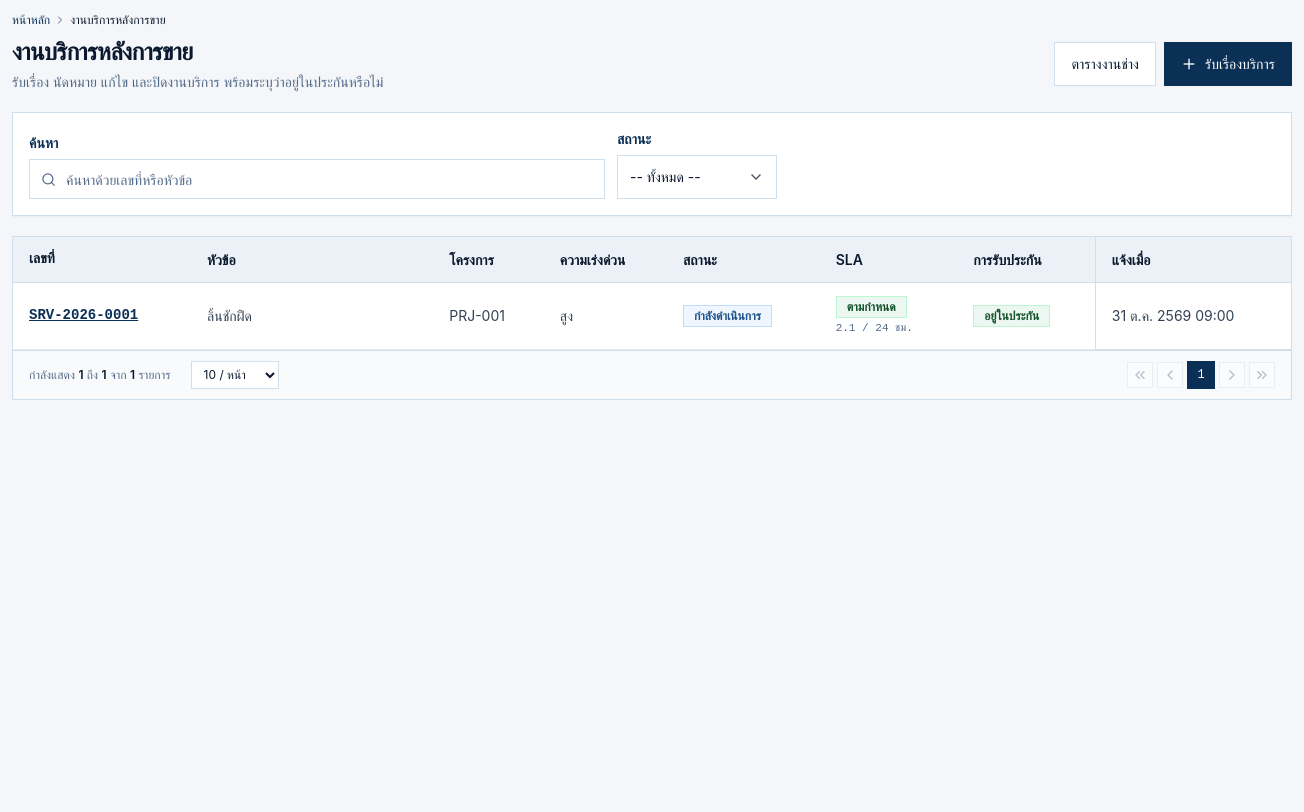
ServiceRequestList and TechnicianSchedulePanel › renders service requests with SLA column and allows switching between requests and schedules view
Expected: the link "SRV-2026-0001" is shown, [29, 307, 138, 323]
Expected: the text "ลิ้นชักฝืด" is shown, [191, 282, 433, 349]
// Switch to schedules view
Click the button "ตารางงานช่าง". click: (1105, 64)
box: [1054, 42, 1156, 86]
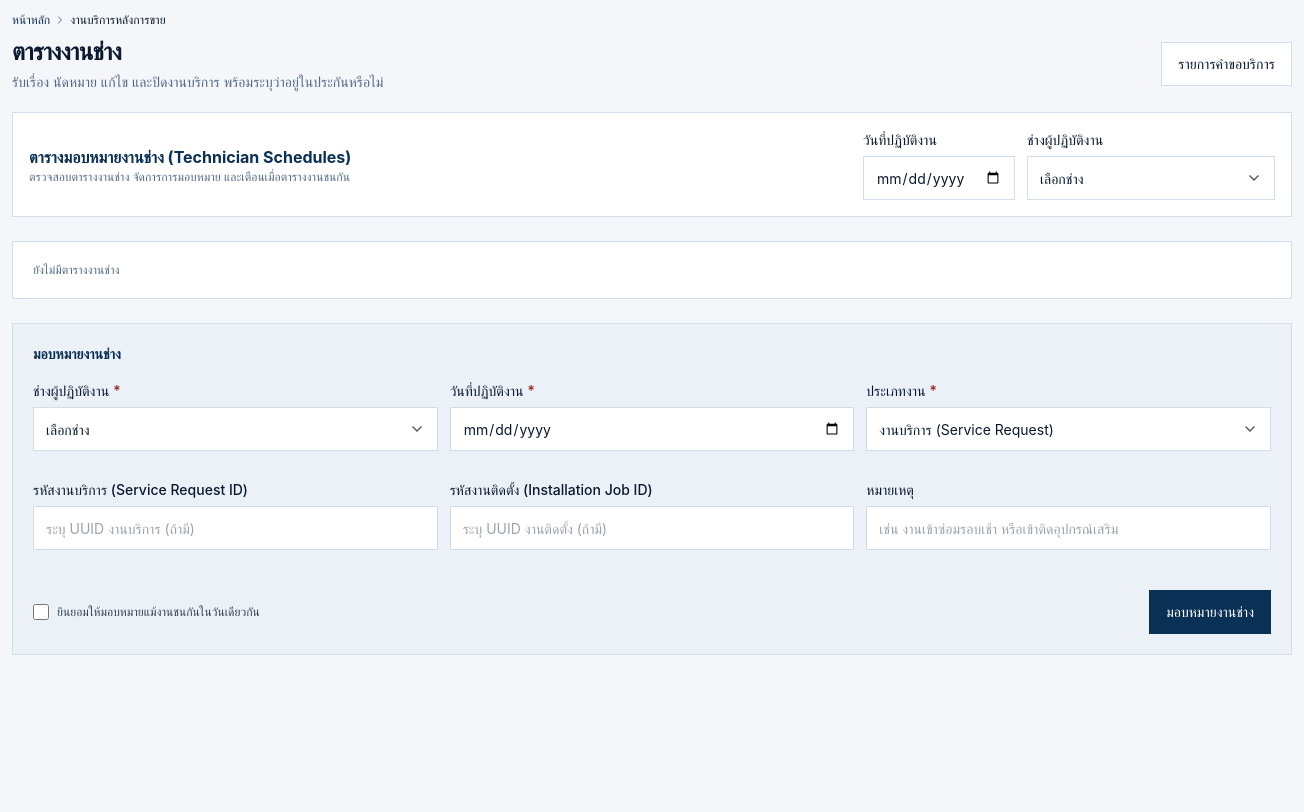
Now the heading "ตารางมอบหมายงานช่าง (Technician Schedules)" is shown, box [29, 144, 351, 168]
Now the button "รายการคำขอบริการ" is shown, box [1161, 42, 1292, 86]
